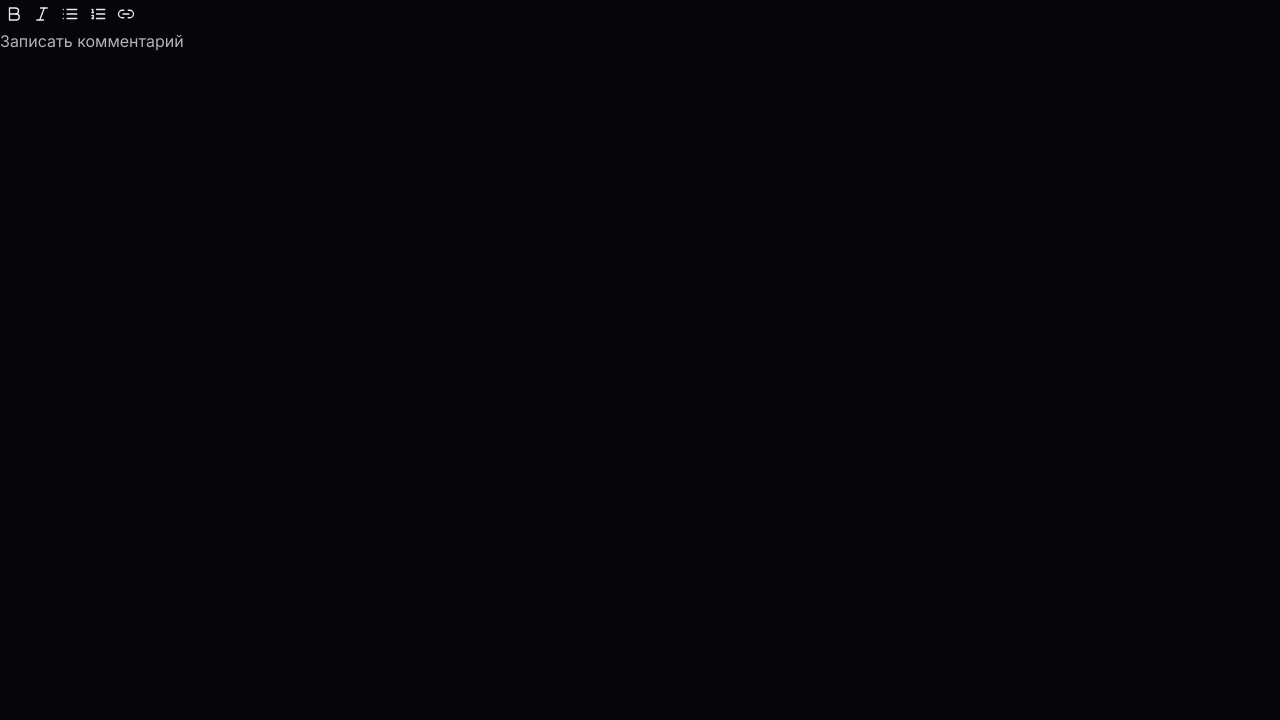
it: В буфере не адрес — окно НАШЕ, не браузерное › в поле вписали не адрес — ругаемся и окно не закрываем
The image size is (1280, 720).
Click the button named "Ссылка".
click(126, 14)  # box 112,0 -> 140,28
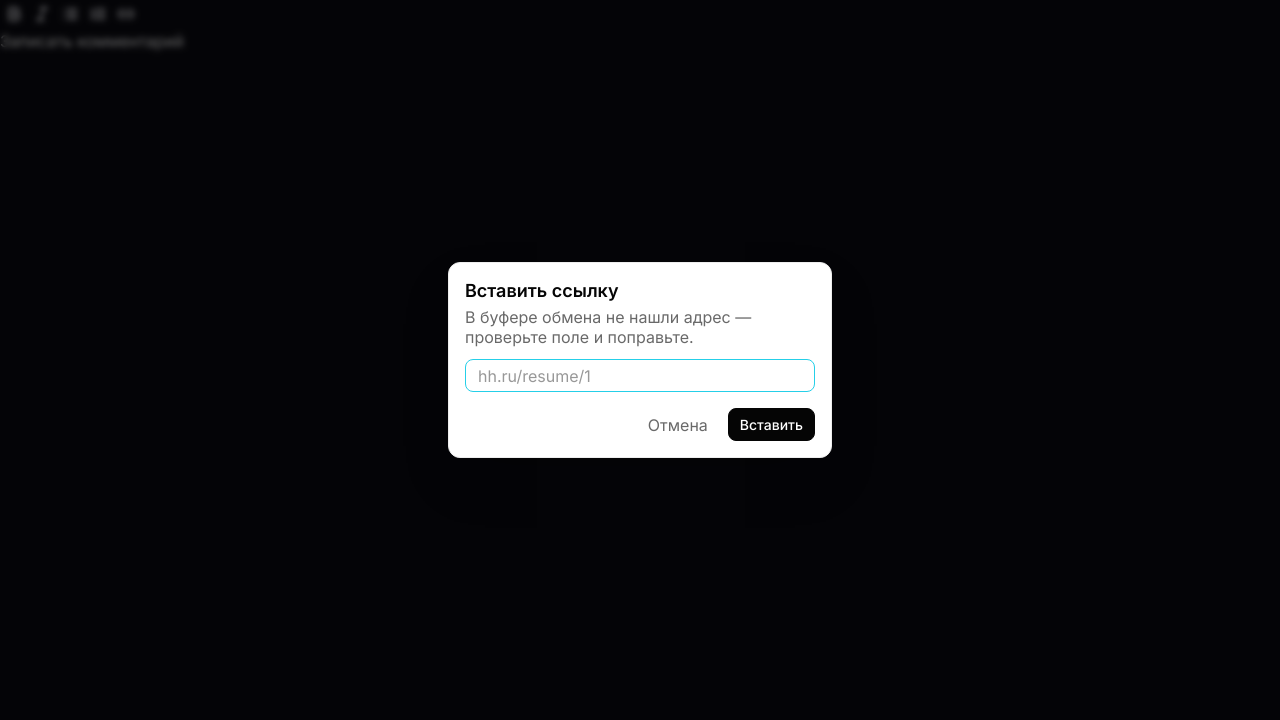
Now the dialog is shown, box 448,262 -> 832,458
Type "и.т.д" into the field with placeholder "hh.ru/resume/1".
click(640, 376); type("и.т.д")  # box 465,359 -> 815,392
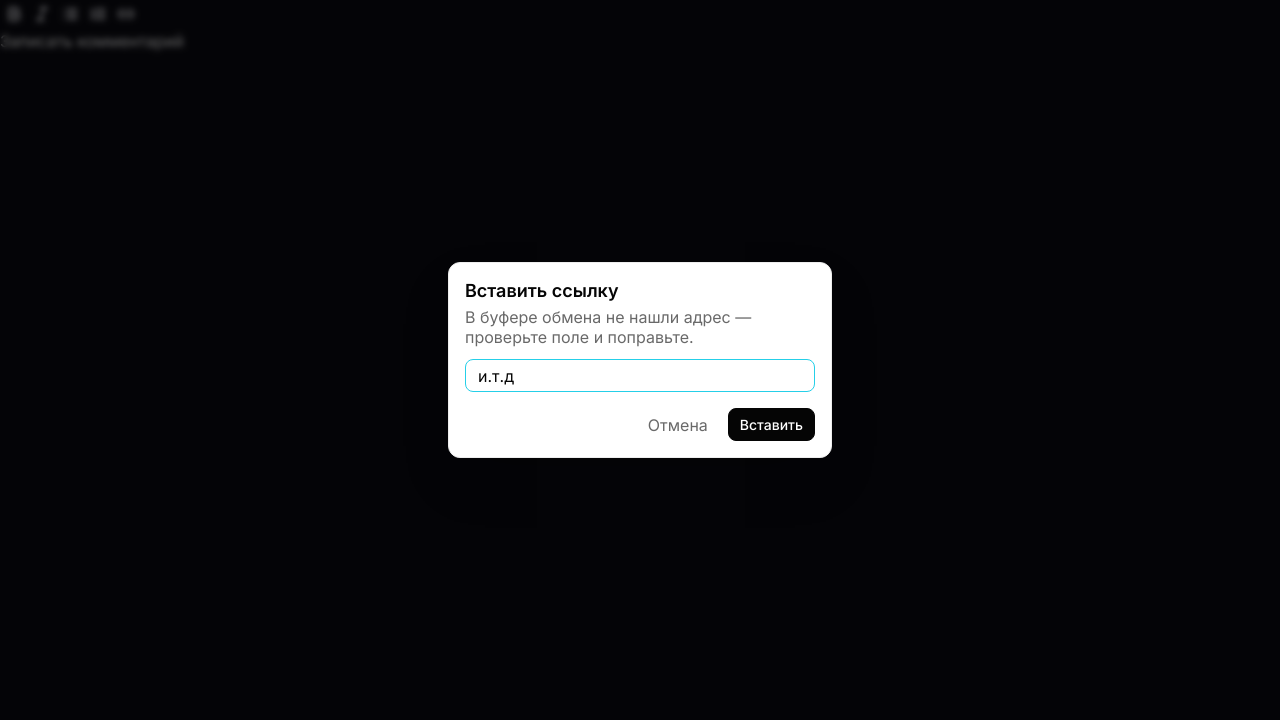
Click the button "Вставить".
click(771, 424)  # box 728,408 -> 815,441
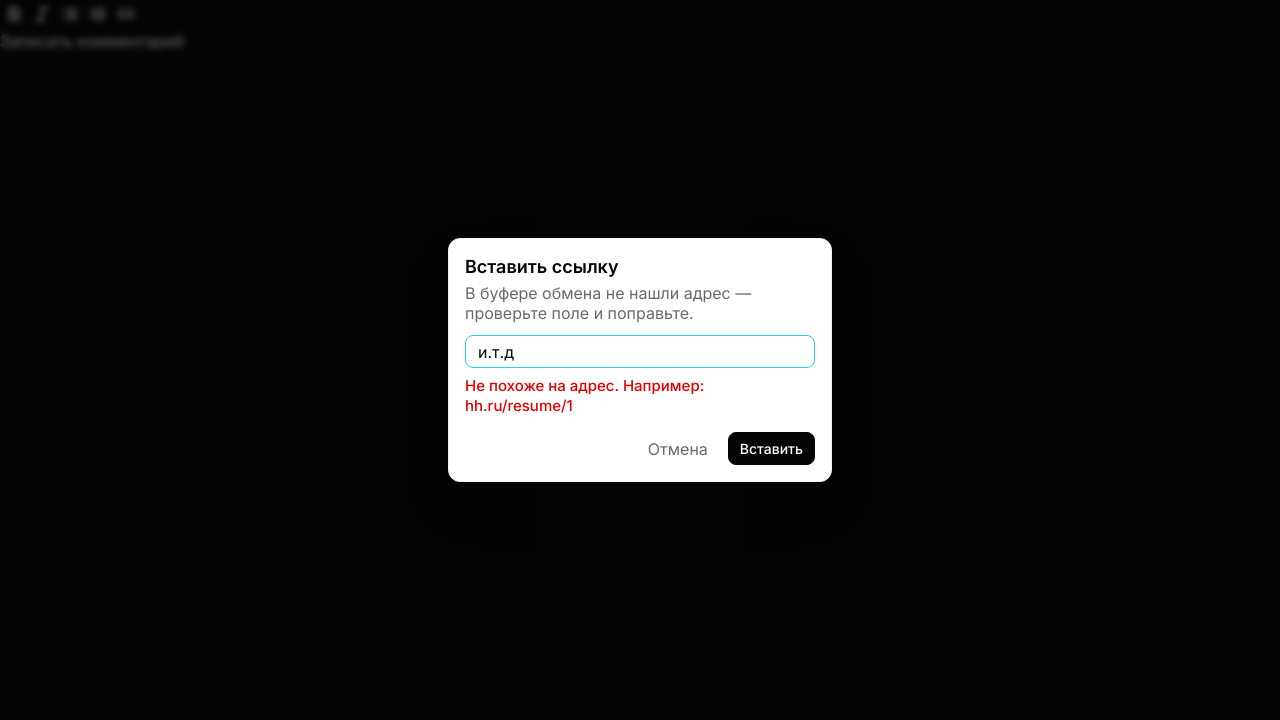
Now the dialog shows "Не похоже на адрес", box 465,376 -> 704,415
